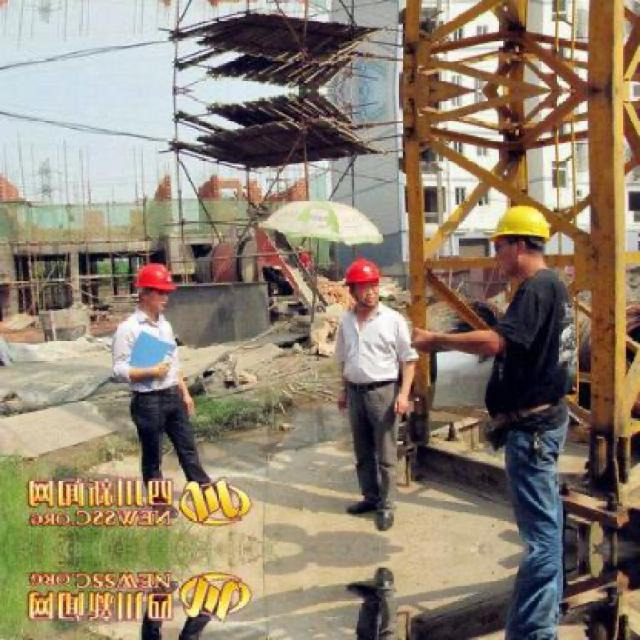helmet: (484, 197, 562, 280), (128, 252, 178, 318), (340, 251, 385, 306)
